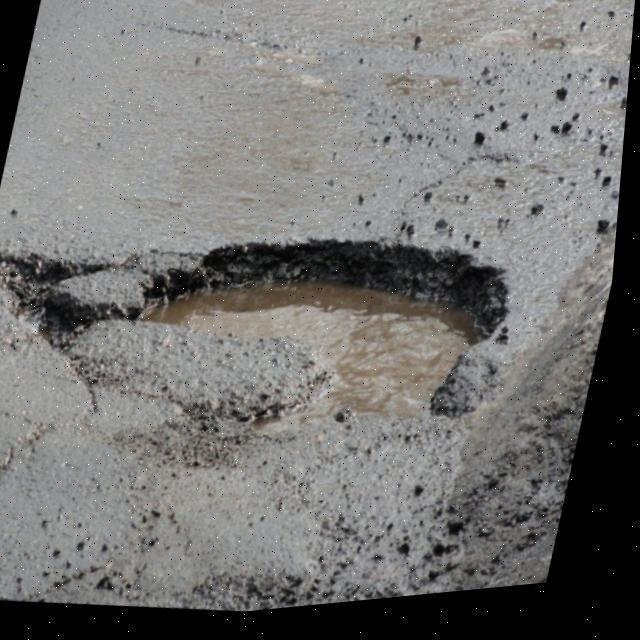Pothole: (0, 226, 520, 446)
